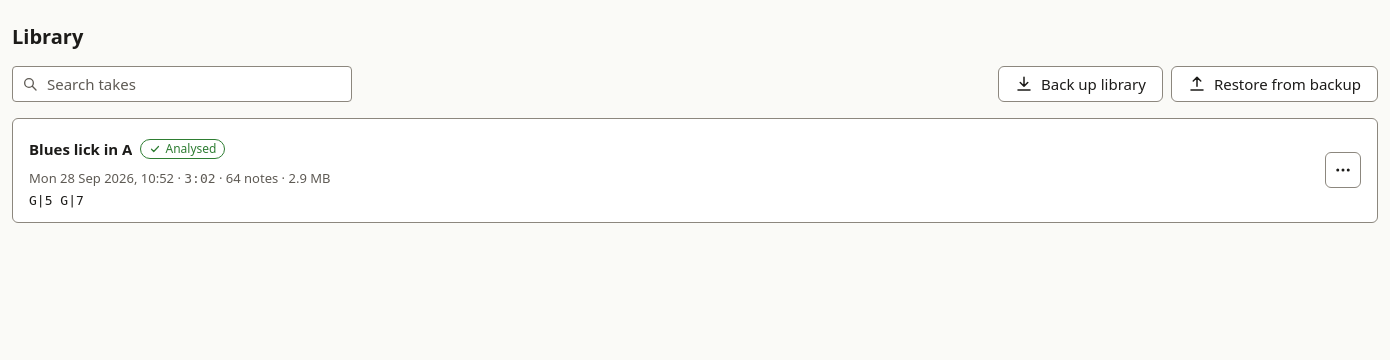
Test: row actions › an outside pointer-down closes it; a second click on "⋯" closes it too
The width and height of the screenshot is (1390, 360).
Click the button named "More actions for Blues lick in A". click: (1343, 170)
box: left=1325, top=152, right=1361, bottom=188
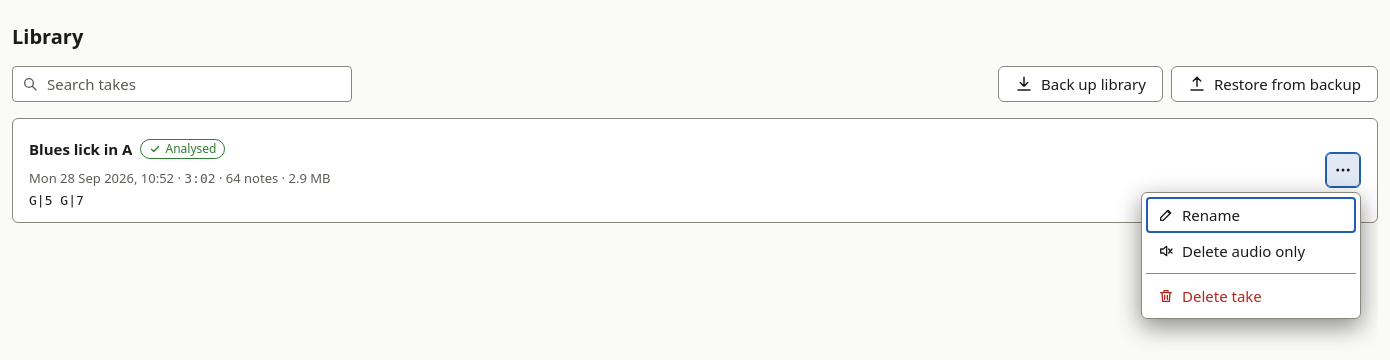
Press the mouse on the element that starts with "Library" at (695, 123), box left=12, top=0, right=1378, bottom=247
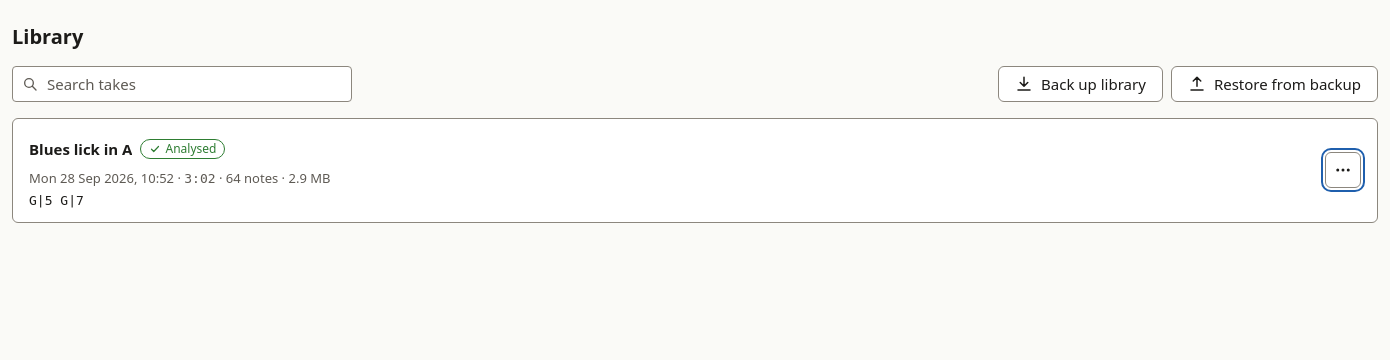
Expected: the menu is gone
Click the button named "More actions for Blues lick in A". click: (1343, 170)
box: left=1325, top=152, right=1361, bottom=188
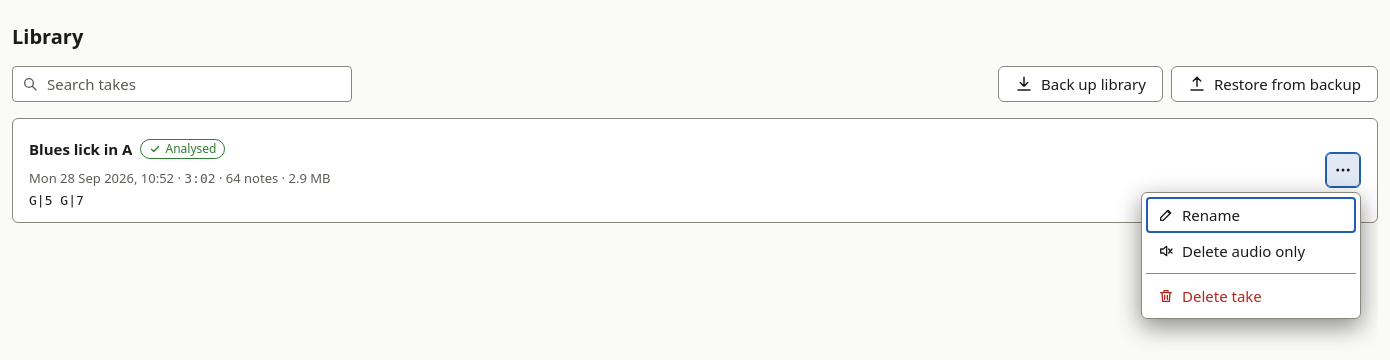
Click the button named "More actions for Blues lick in A". click: (1343, 170)
box: left=1325, top=152, right=1361, bottom=188
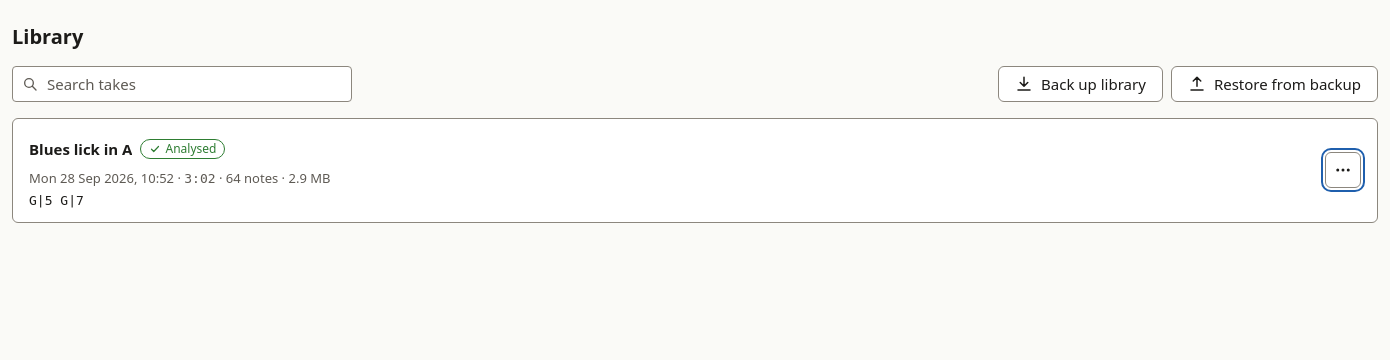
Expected: the menu is gone
